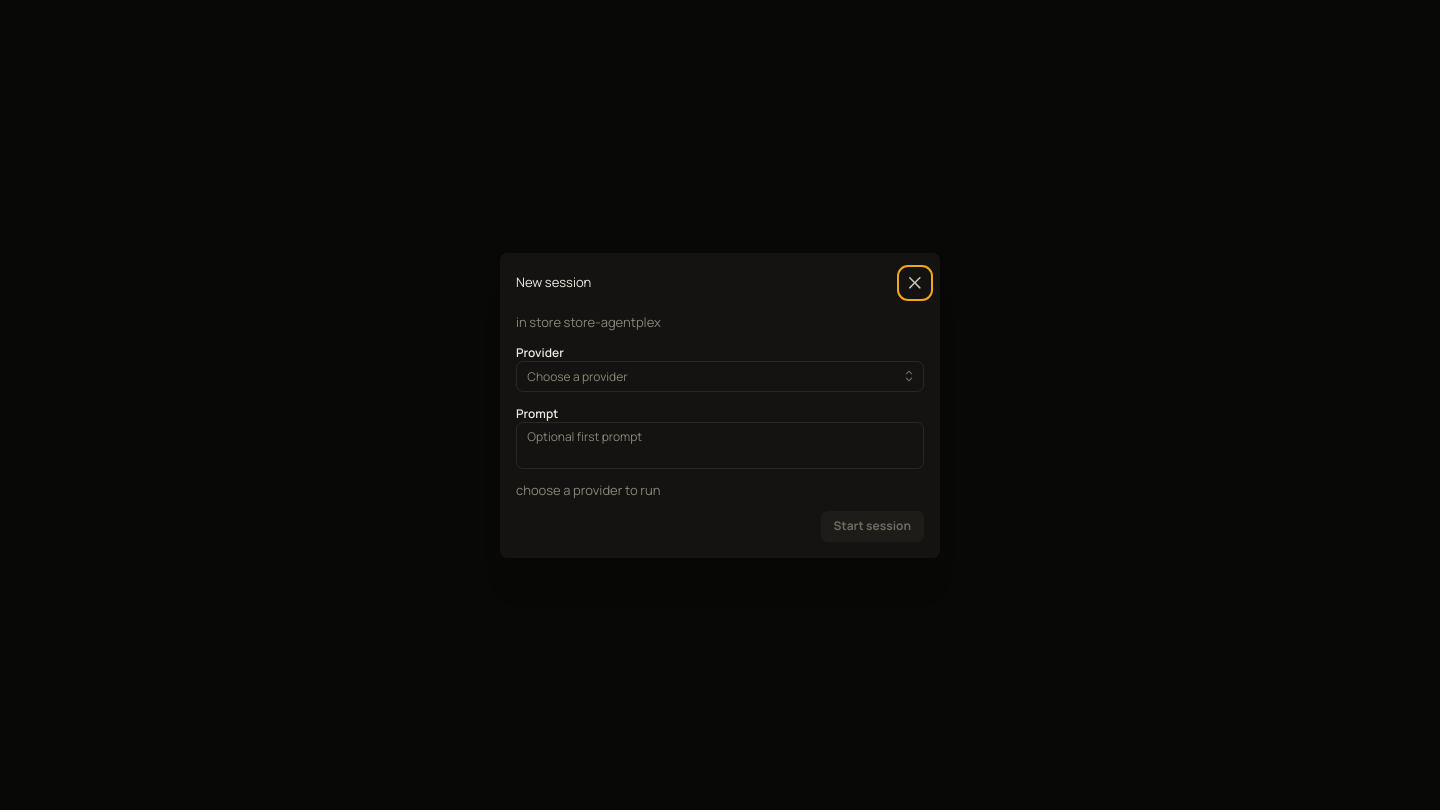
Test: the new-session form › offers none either when the start named no session to aim one at
This screenshot has width=1440, height=810.
Click the dropdown named "Provider". click: (720, 376)
box: [516,360,924,392]
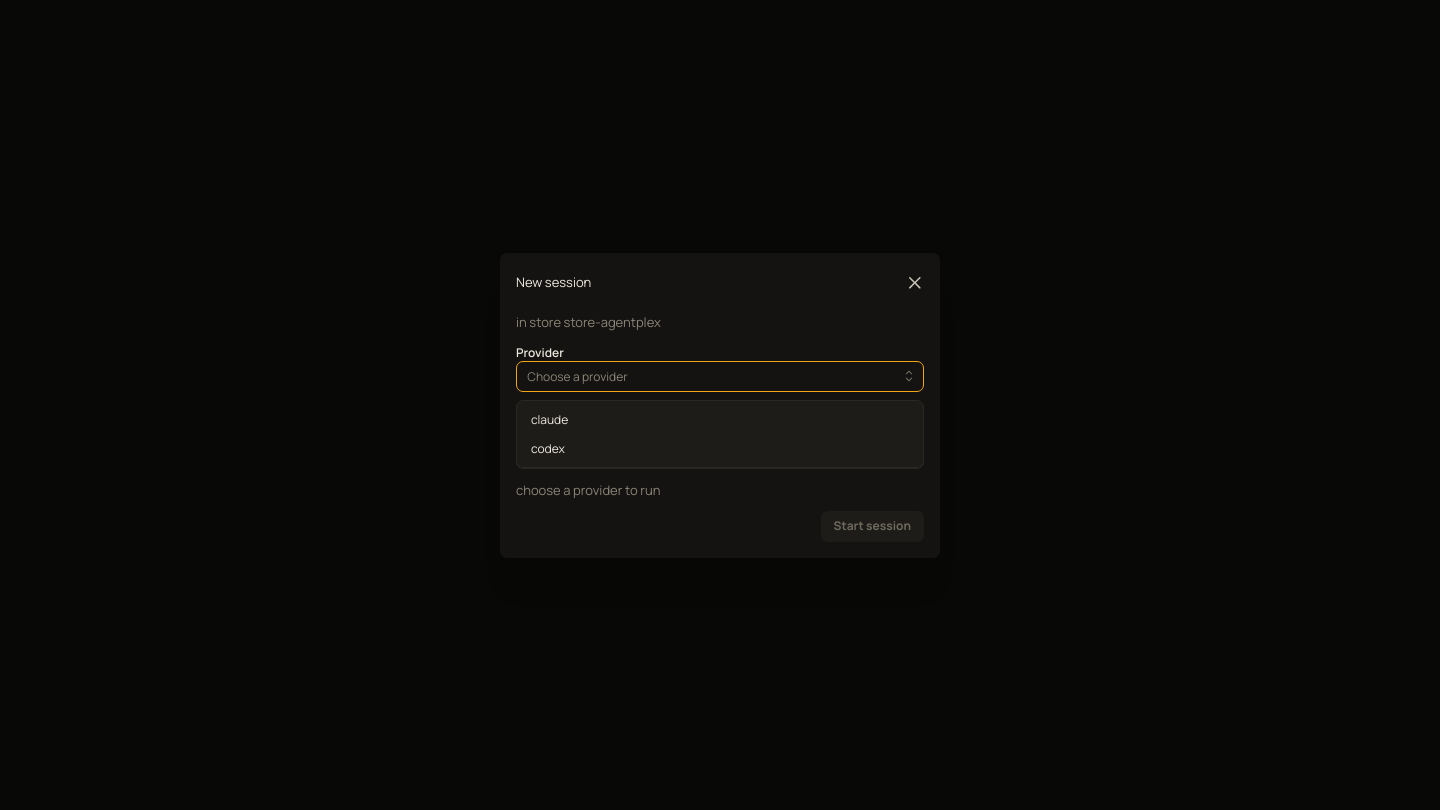
Click the option "claude". click: (550, 419)
box: [531,410,568,428]
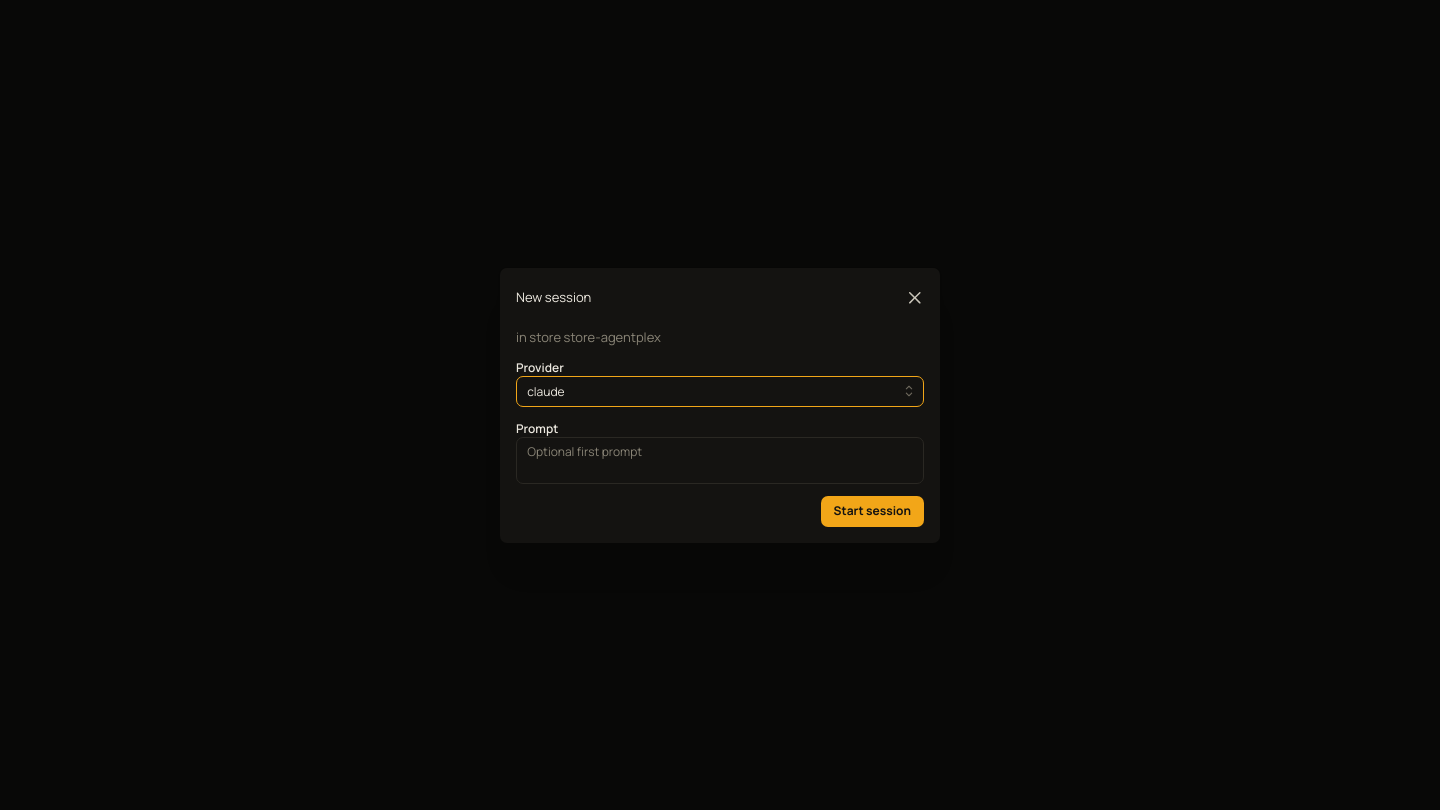
Click the button "Start session". click: (872, 511)
box: [821,496,924,526]
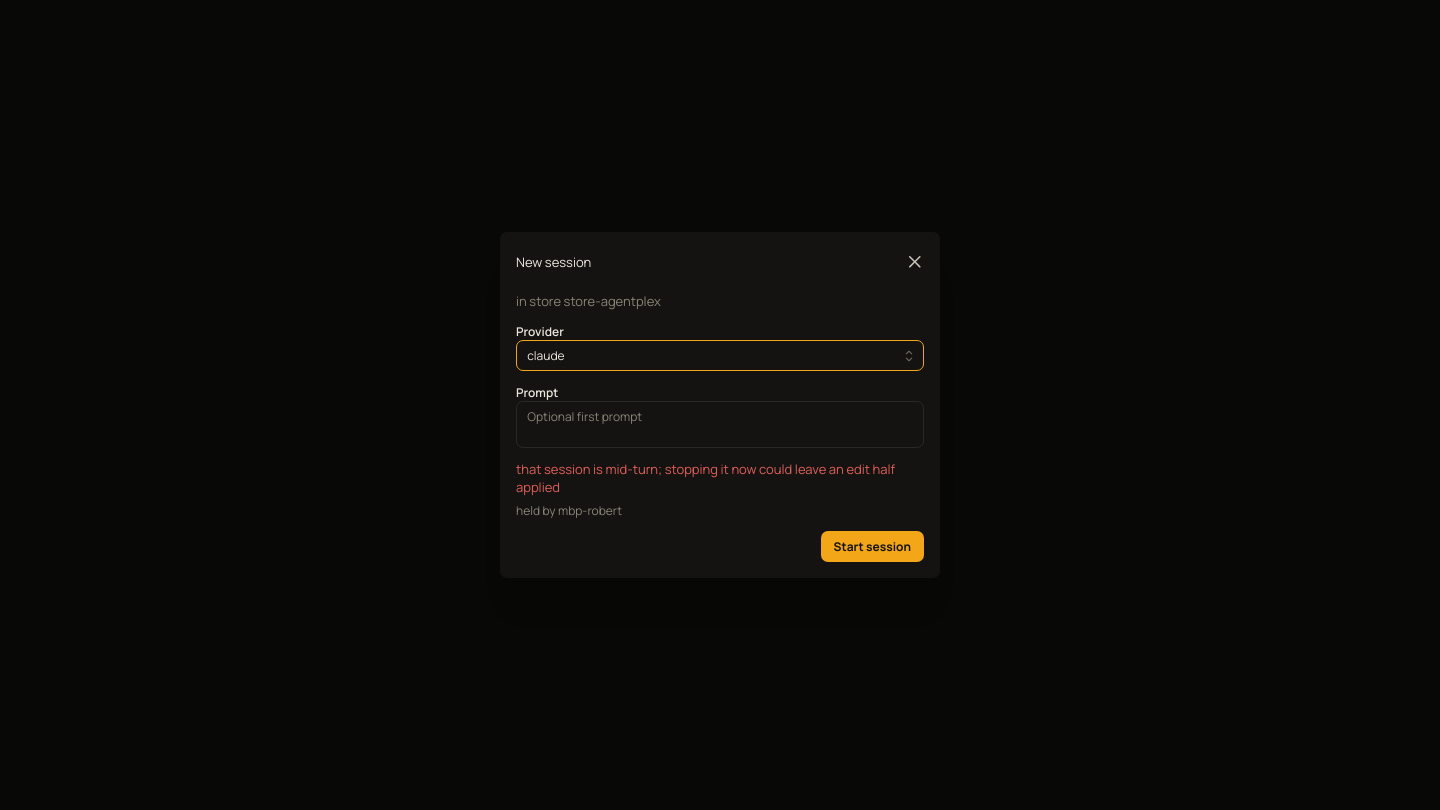
Click the button "Start session". click: (872, 546)
box: [821,531,924,562]
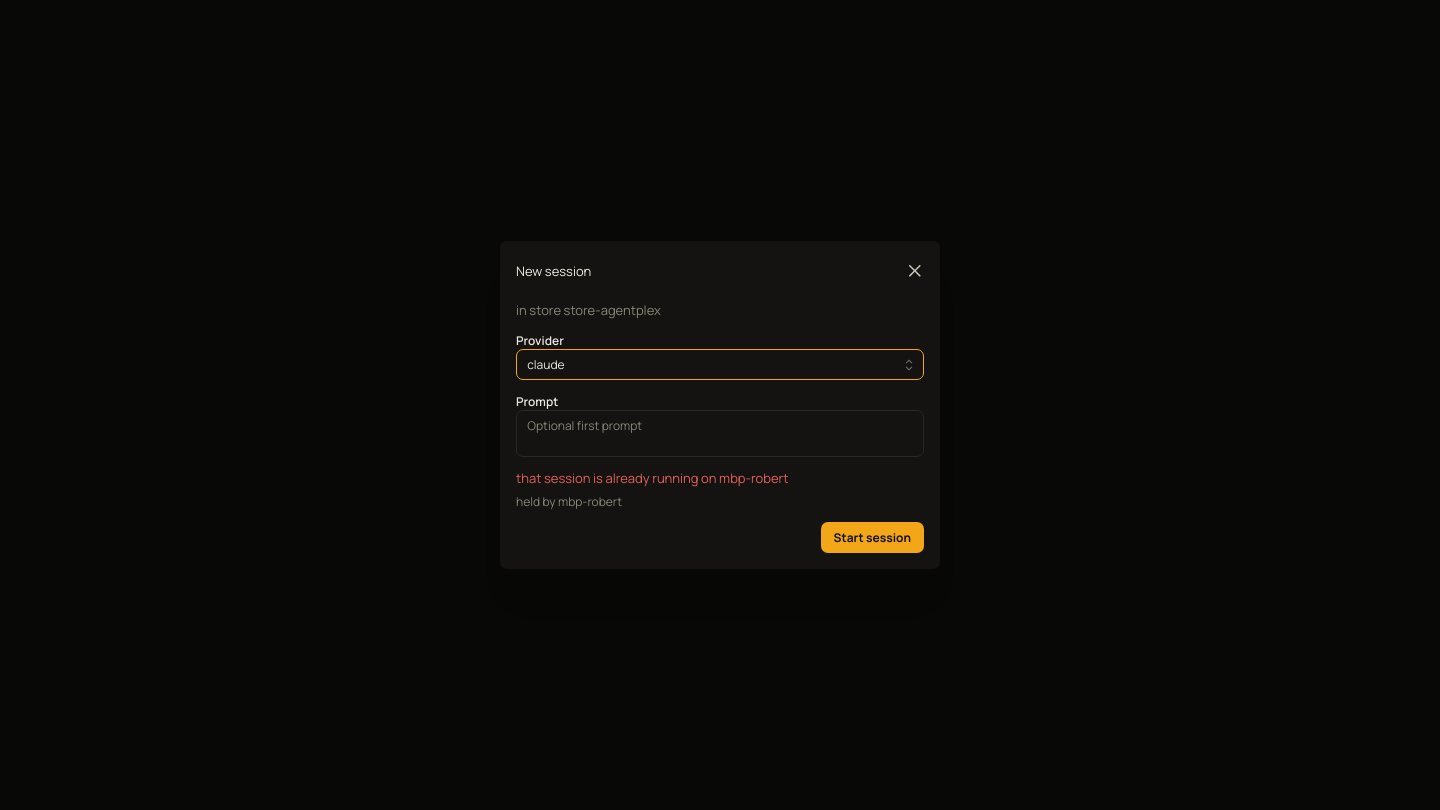
Check: the text "held by mbp-robert" is shown, box [516,493,622,510]
Check: the text "that session is already running on mbp-robert" is shown, box [516,469,788,487]
